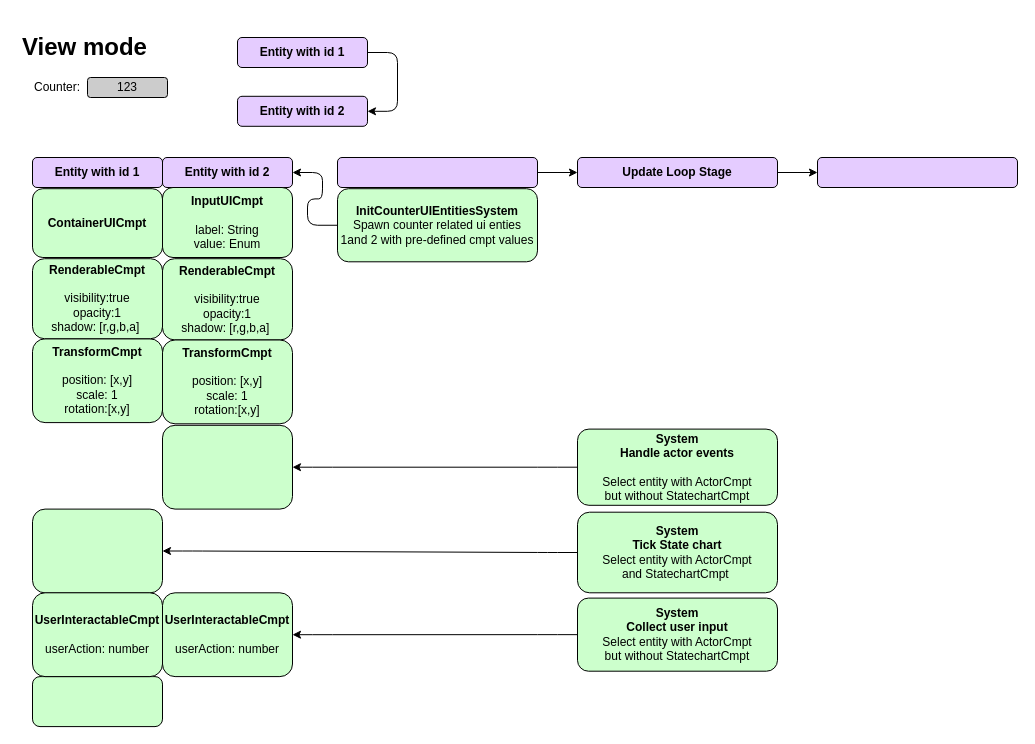
Image size: 1035x744. Some labels were removed from this diagram. The shapes that lost their labels are listed below. From the top down, each one's centre as x and y in pixels, then its label:
(x=437, y=172): Init Stage
(x=917, y=172): Destory Stage
(x=227, y=466): TypedActorCmpt <Event, Data> priorityMailBox: Event[] contextData: Data
(x=97, y=550): StatechartBundle ActorCmpt StatechartCmpt
(x=97, y=701): EntityLinkCmpt linkedEntityIds:[2,]
